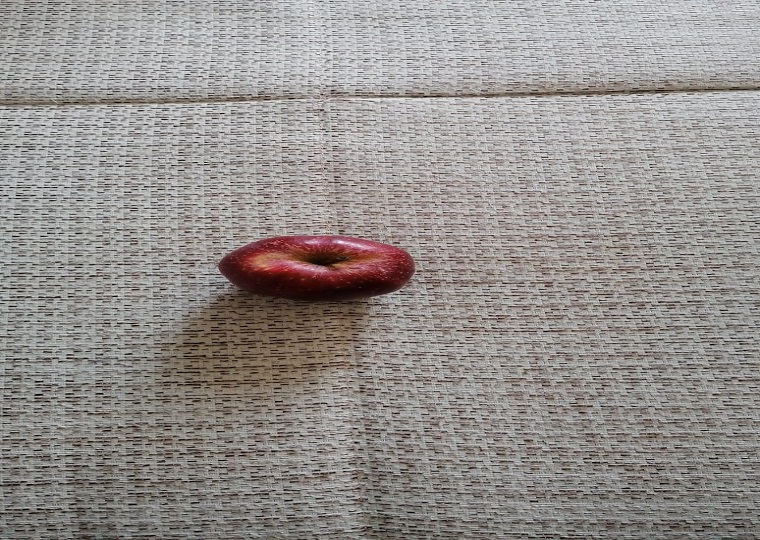elma: (218, 234, 418, 302)
